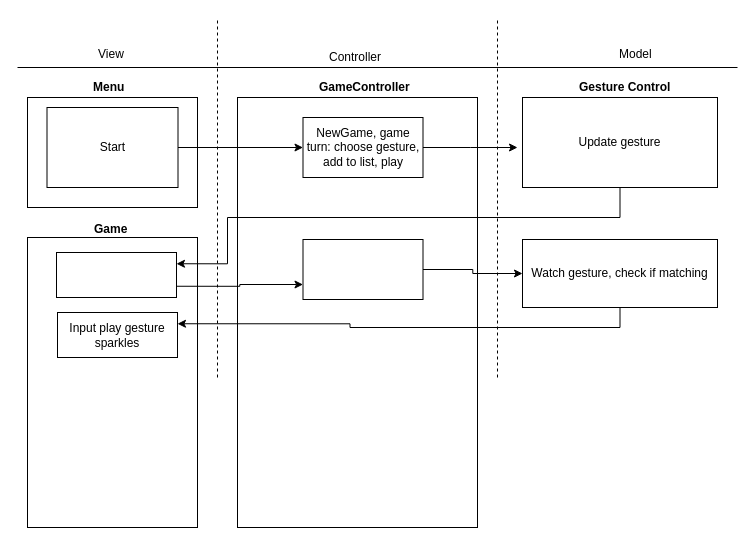
The diagram is 756 pixels wide and 545 high, and some of its shapes have lost their labels. The centre of each missing label's shape, as x and y in pixels:
"player turn: listen and forward input" goes at point (362, 269).
"Watch gamegesture" goes at point (116, 275).
